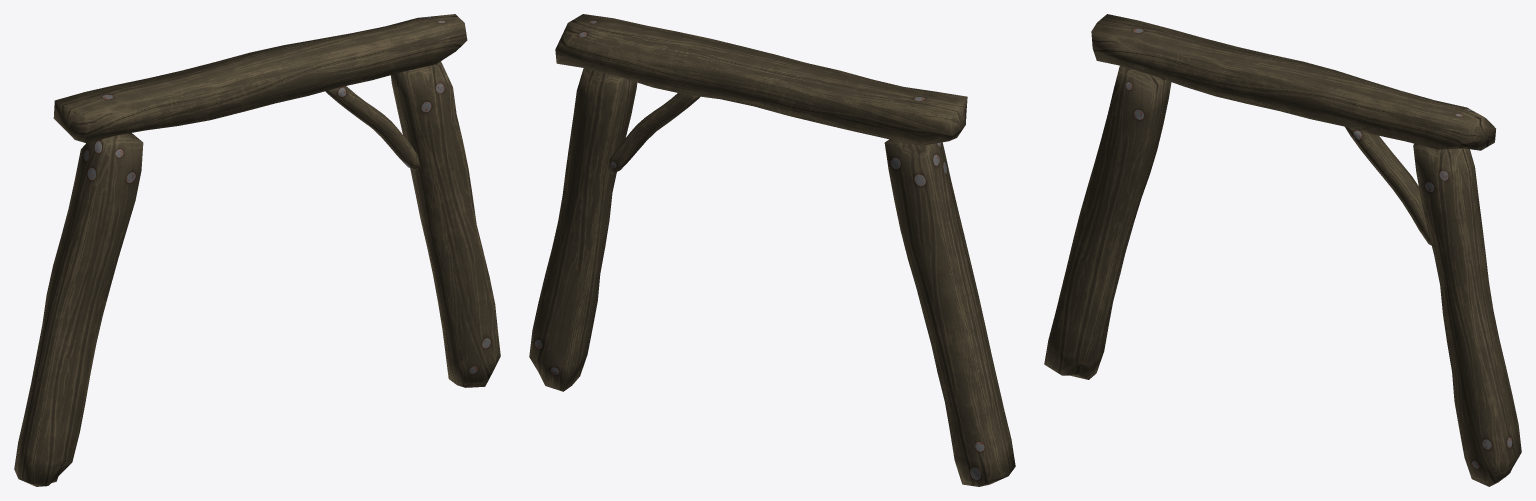
Rendered from wood_poutre_B.fbx.
The picture shows the model from 3 angles, left to right: view 1: azimuth 30°, elevation 25°; view 2: azimuth 150°, elevation 25°; view 3: azimuth 330°, elevation 25°; orthographic projection. The views are drawn at different scales.
Visible parts, largest first — view 1: wood_poutre_B; view 2: wood_poutre_B; view 3: wood_poutre_B.
Part boxes in pixels (x1,y1,x2,y2): wood_poutre_B: (14,14,500,486); wood_poutre_B: (529,14,1015,486); wood_poutre_B: (1044,14,1521,486).
Size of what is drawn, in the model's own units: 493 by 373 by 55.95.
Materials: 1 (1 with a texture image).
